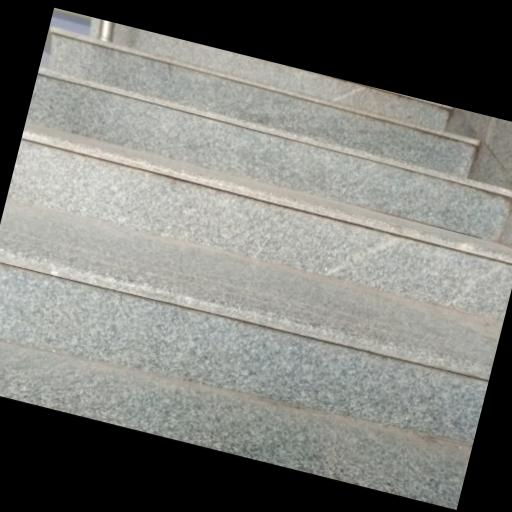stairs: (0, 25, 511, 508)
